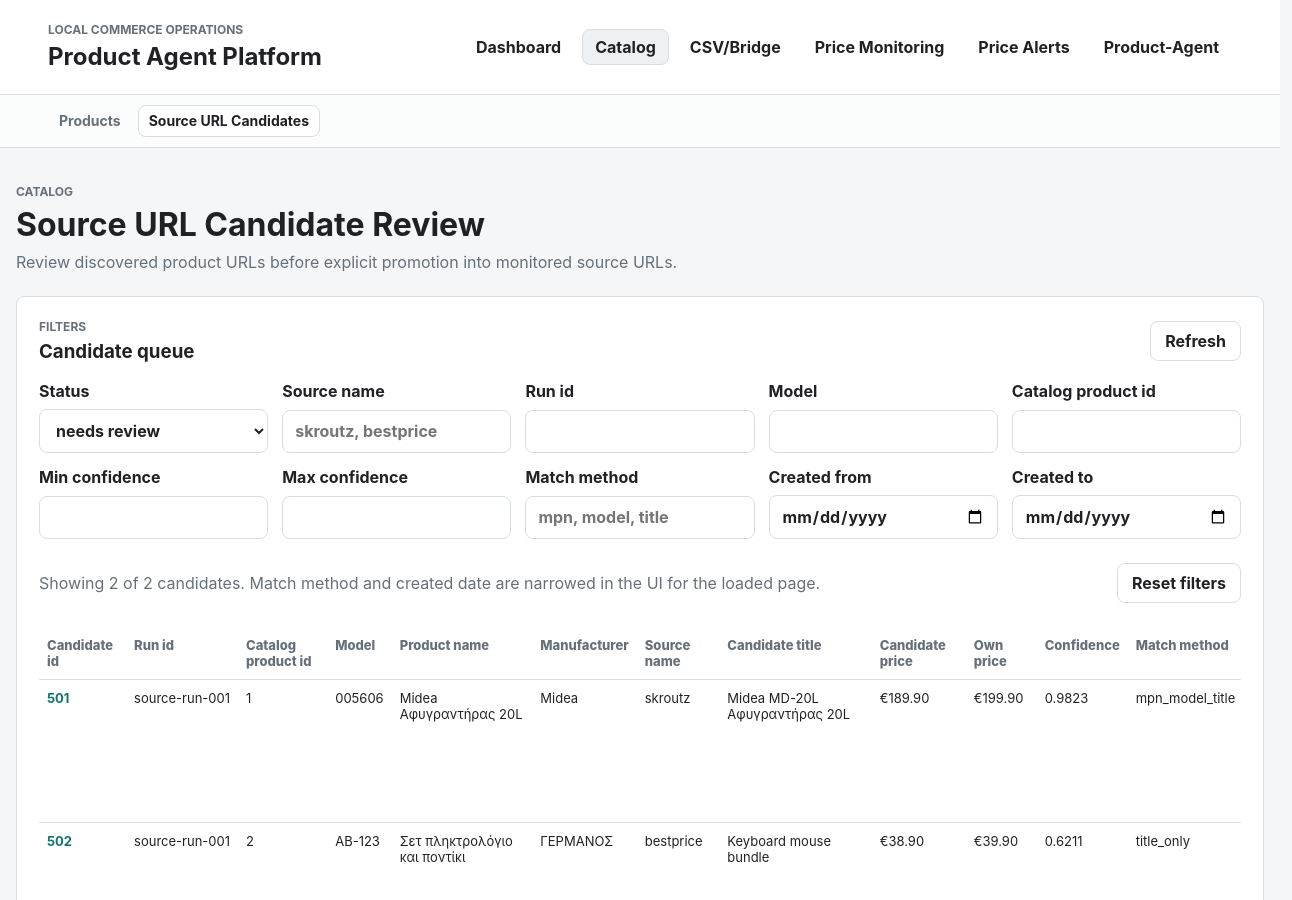
Test: platform mocked page smoke tests › filters Source URL candidates by status and source
Type "bestprice" into the search field labelled "Source name" at (397, 431), box 282,410 -> 511,453
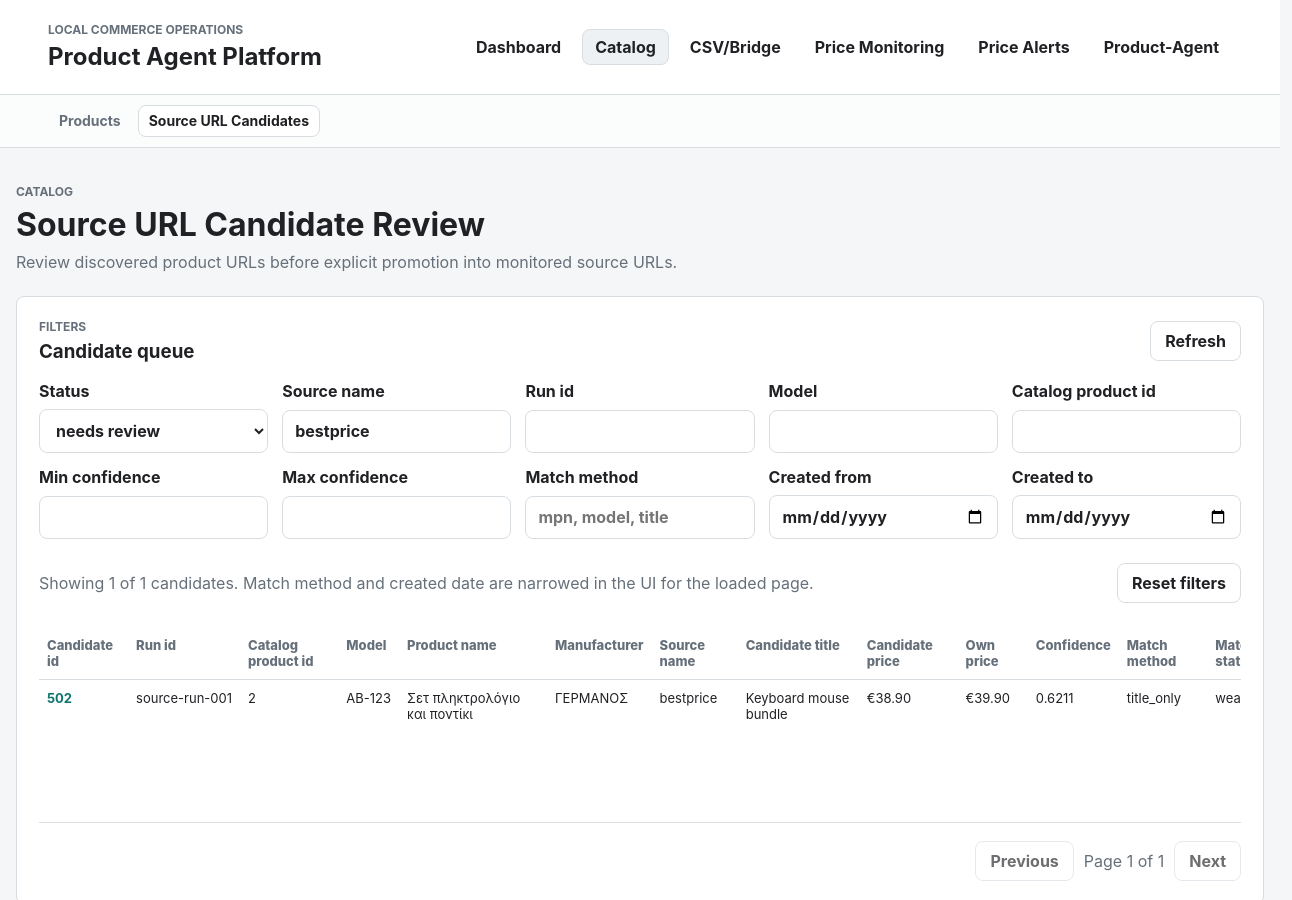
Expected: the dropdown labelled "Status" shows "needs review", 39,409 -> 268,453
Result: the text "Midea MD-20L Αφυγραντήρας 20L" is gone
